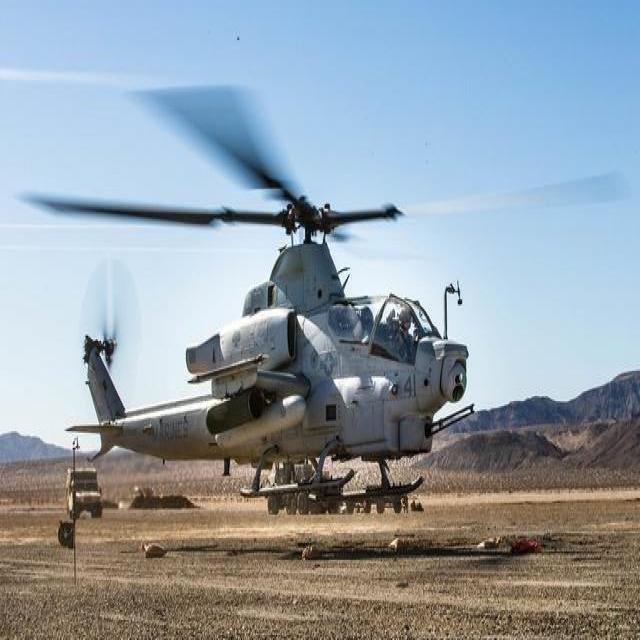MIL_HELO: (15, 81, 638, 500)
